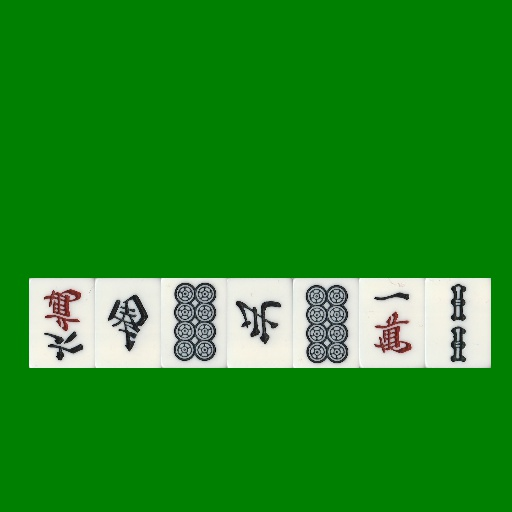1m: (359, 278, 425, 368)
2s: (425, 278, 491, 368)
6m: (29, 278, 95, 368)
8p: (161, 278, 227, 368), (293, 278, 359, 368)
north: (227, 278, 293, 368)
south: (95, 278, 161, 368)
